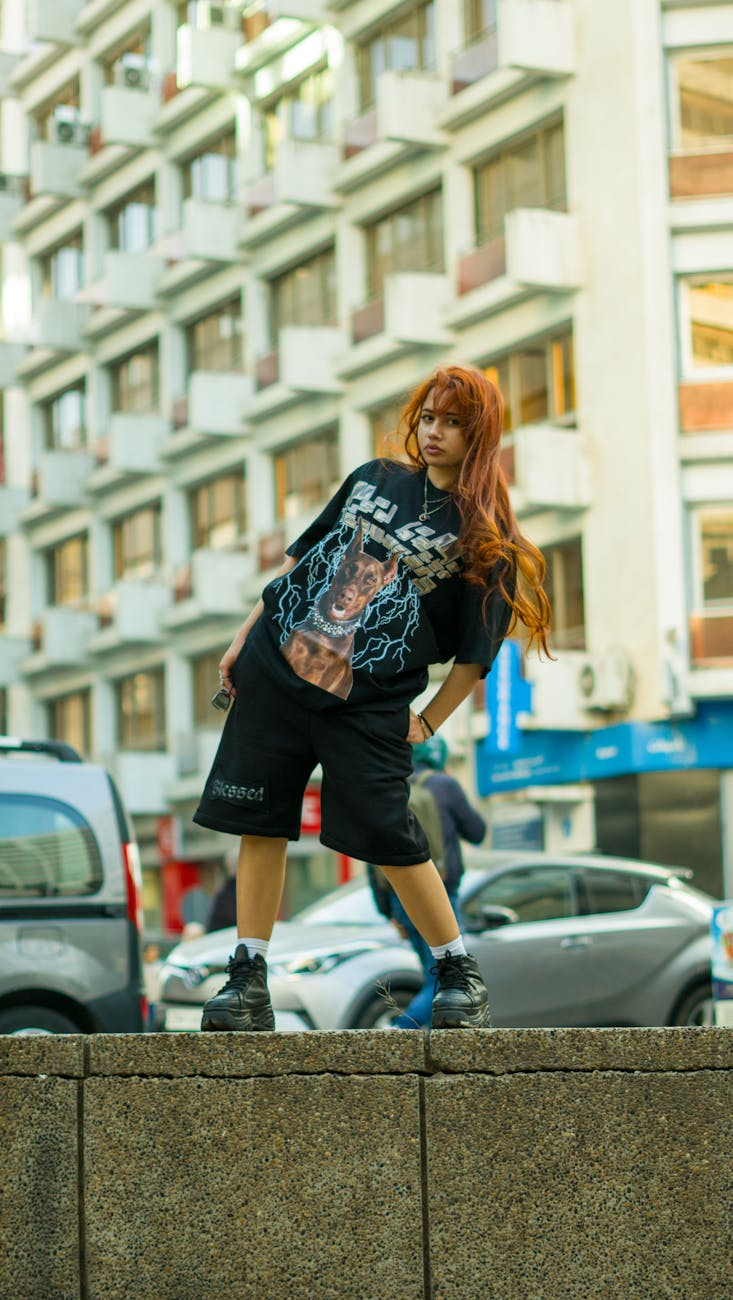shorts: (188, 666, 463, 859)
